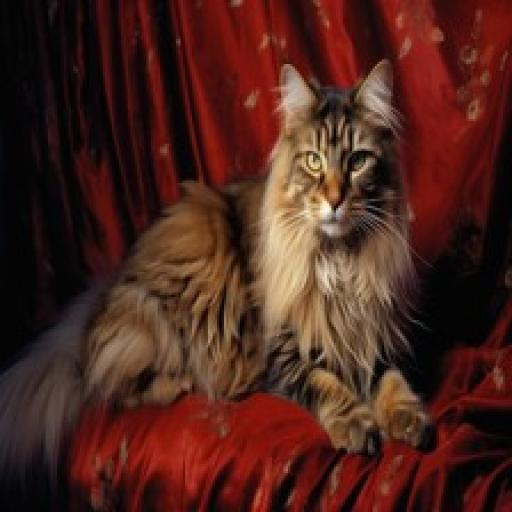cat: (0, 51, 435, 512)
